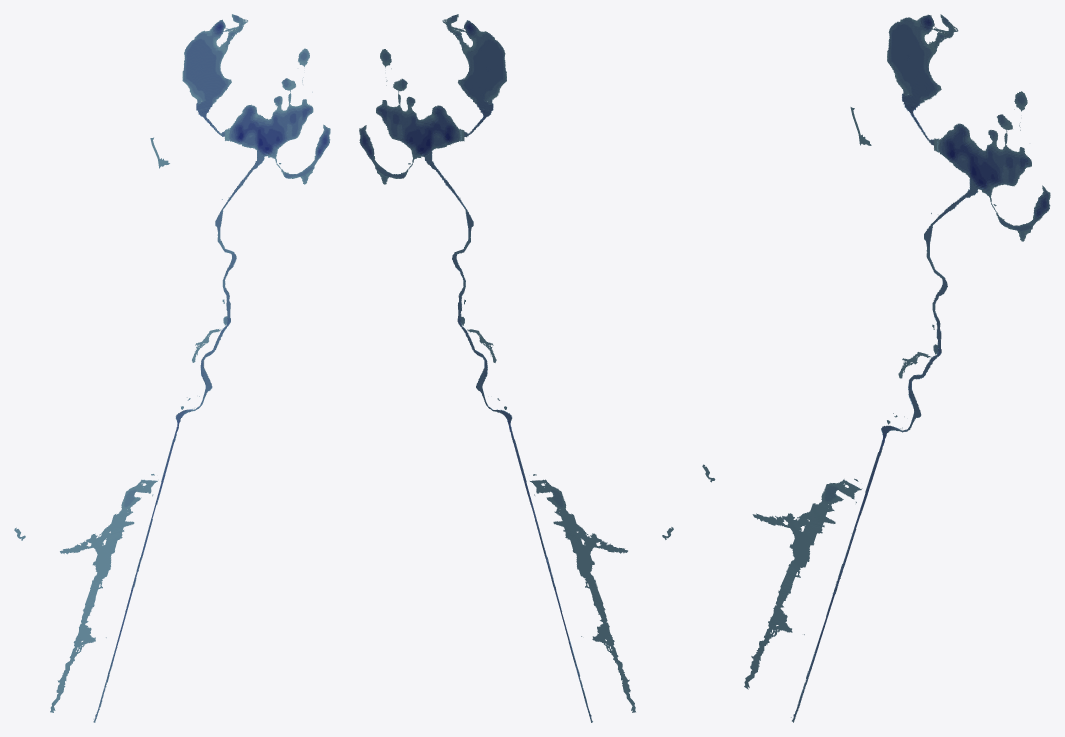
The model's file is triangle_mesh.glb.
The picture shows the model from 3 angles, left to right: view 1: azimuth 30°, elevation 25°; view 2: azimuth 150°, elevation 25°; view 3: azimuth 330°, elevation 25°; orthographic projection. The views are drawn at different scales.
Parts seen in each view (by area): view 1: world; view 2: world; view 3: world.
Boxes of the visible parts, bbox=[...] form: world: bbox=[14, 14, 330, 722]; world: bbox=[359, 14, 673, 722]; world: bbox=[702, 14, 1050, 722].
Bounding box in the file's own units: 1339 × 2739 × 16.1.
